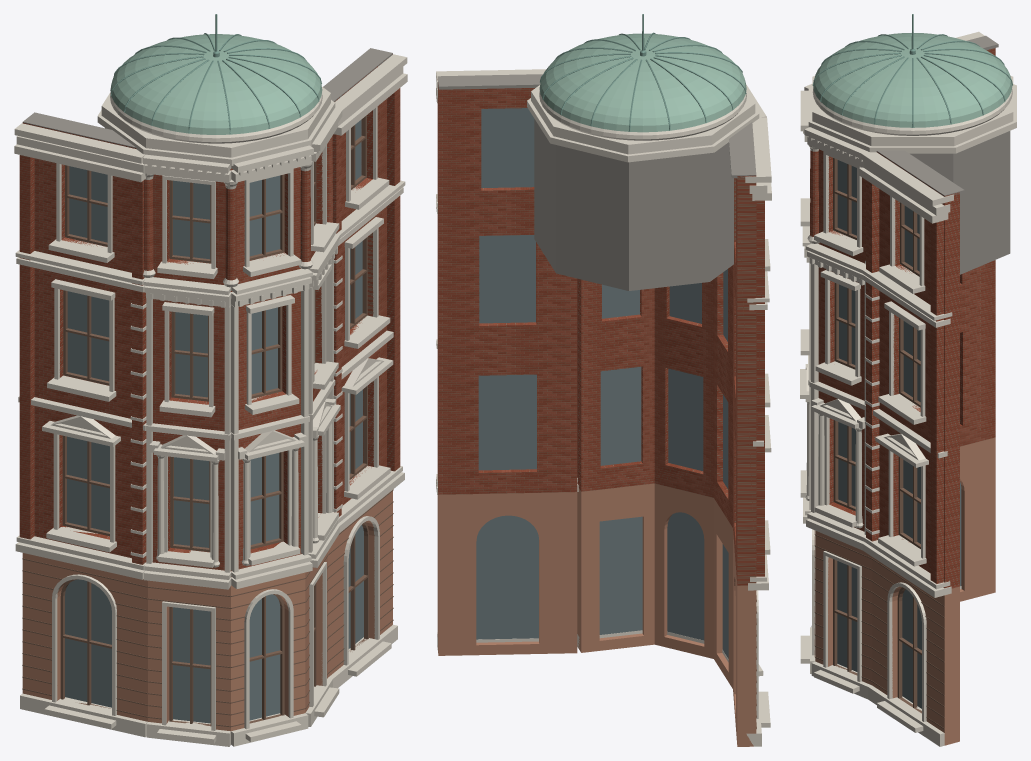
Rendered from huangpu-ta-ching-bank-southwest-tower-lod.glb.
3 renders of one model, left to right at view 1: azimuth 30°, elevation 25°; view 2: azimuth 150°, elevation 25°; view 3: azimuth 270°, elevation 25°, orthographic. The views are drawn at different scales.
Visible parts, largest first — view 1: 大清银行上海分行旧址（西南八角塔楼）; view 2: 大清银行上海分行旧址（西南八角塔楼）; view 3: 大清银行上海分行旧址（西南八角塔楼）.
Part boxes in pixels (left/top/right/bottom): 大清银行上海分行旧址（西南八角塔楼）: left=14, top=14, right=407, bottom=746; 大清银行上海分行旧址（西南八角塔楼）: left=436, top=14, right=771, bottom=746; 大清银行上海分行旧址（西南八角塔楼）: left=800, top=14, right=1016, bottom=746.
Size of the model in its own units: 10.92 by 19.35 by 5.92.
Materials: 8 (1 with a texture image).
